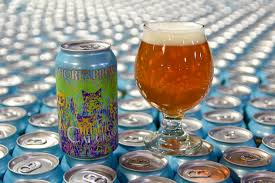can: (55, 41, 120, 160)
